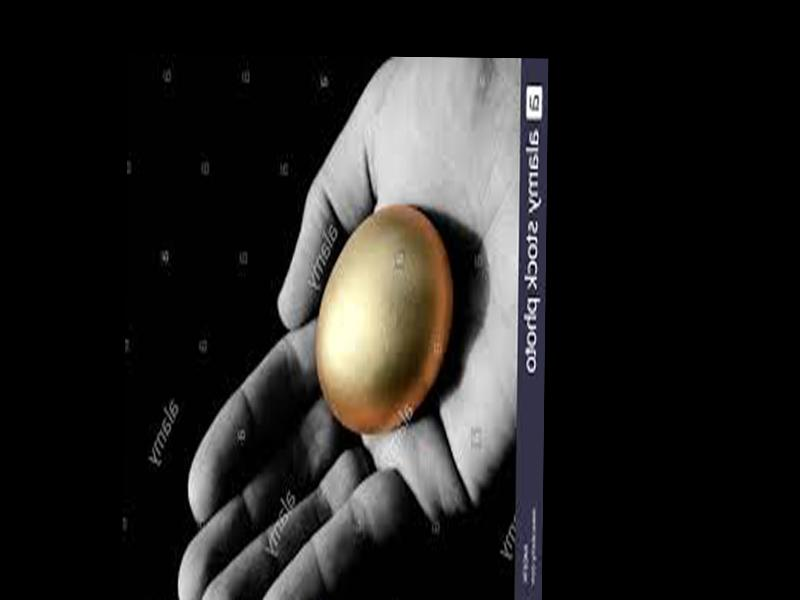Eggs: (315, 206, 451, 436)
